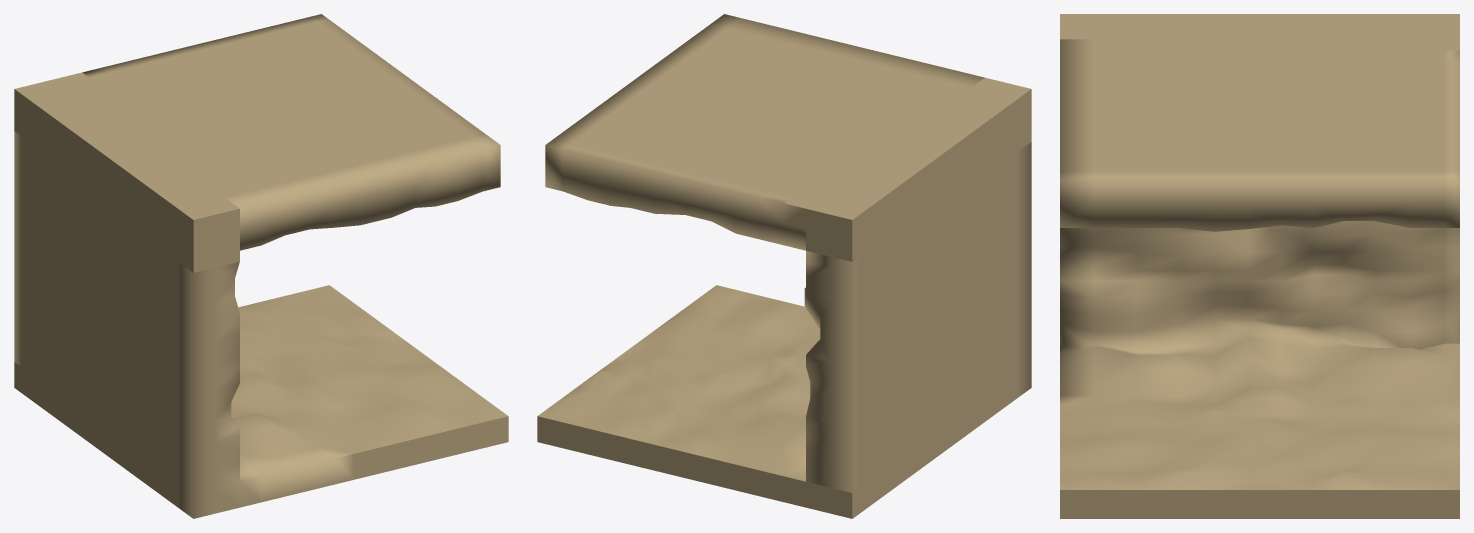
The model's file is SM_bloc_etage_01.fbx.
The picture shows the model from 3 angles, left to right: view 1: azimuth 30°, elevation 25°; view 2: azimuth 150°, elevation 25°; view 3: azimuth 270°, elevation 25°; orthographic projection. The views are drawn at different scales.
Visible parts, largest first — view 1: SM_bloc_etage_01; view 2: SM_bloc_etage_01; view 3: SM_bloc_etage_01.
Part boxes in pixels (<box>): SM_bloc_etage_01: <box>14,14,508,518</box>; SM_bloc_etage_01: <box>537,14,1031,518</box>; SM_bloc_etage_01: <box>1060,14,1459,518</box>.
Bounding box in the file's own units: 145 × 143 × 131.
